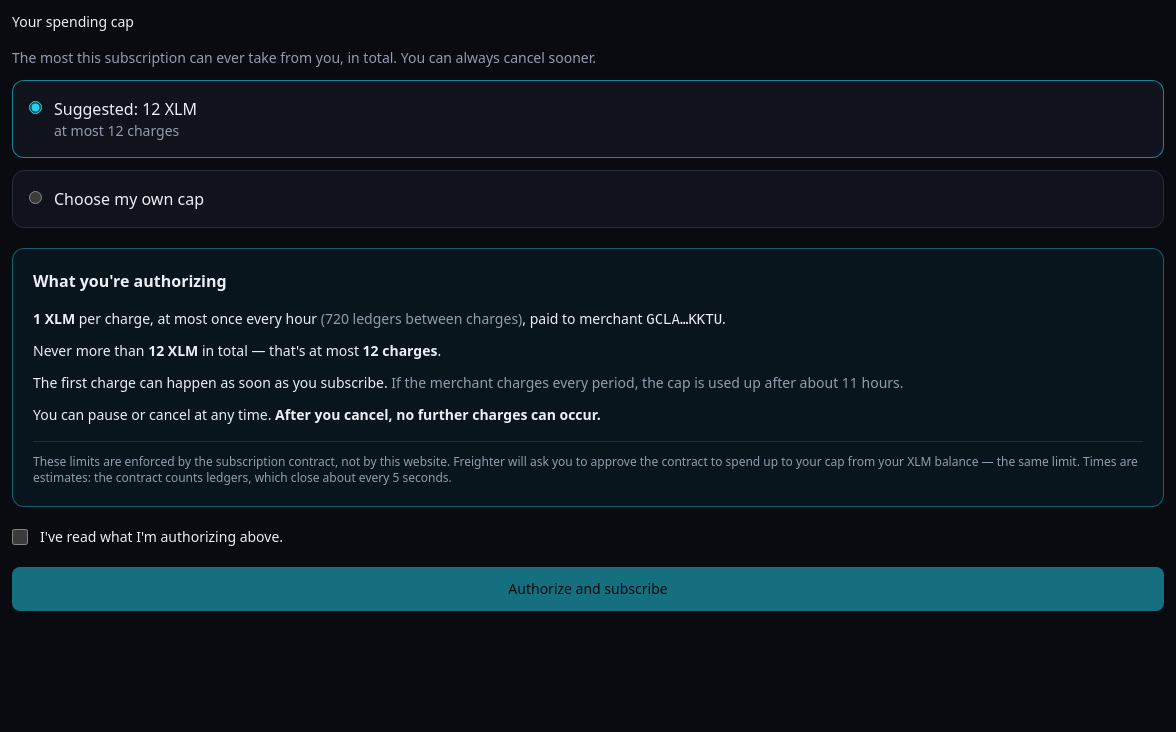
SubscribeForm › enables subscribing only after the summary is acknowledged
Click the checkbox labelled "I've read what I'm authorizing above." at (20, 537), box [12,529,28,545]
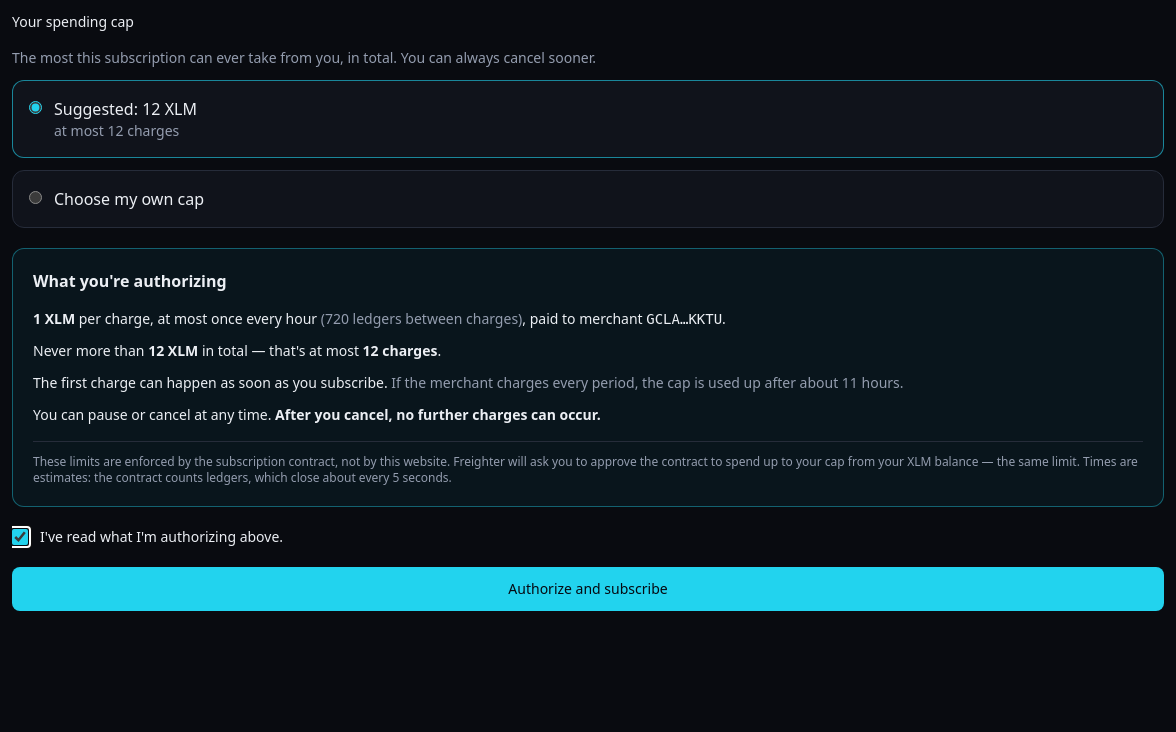
Result: the button "Authorize and subscribe" is enabled at [12,567,1164,611]
